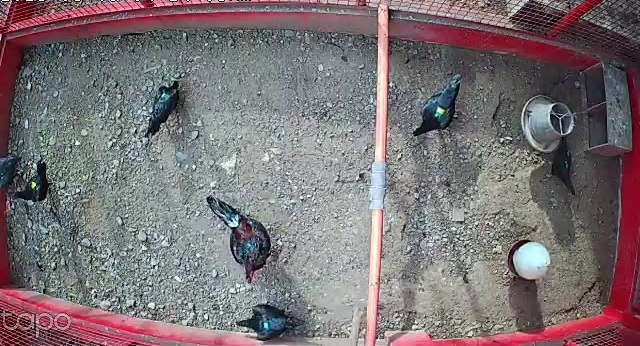Chicken: (411, 74, 467, 137), (232, 298, 311, 342), (144, 77, 185, 138), (544, 135, 579, 198), (13, 162, 54, 203), (0, 147, 26, 193)
Rooster: (203, 195, 276, 285)
Saddle_Color_Blue: (264, 320, 269, 330)
Saddle_Color_Yellow: (31, 181, 40, 190)
Saddle_Color_YellowGreen: (434, 107, 446, 118)
